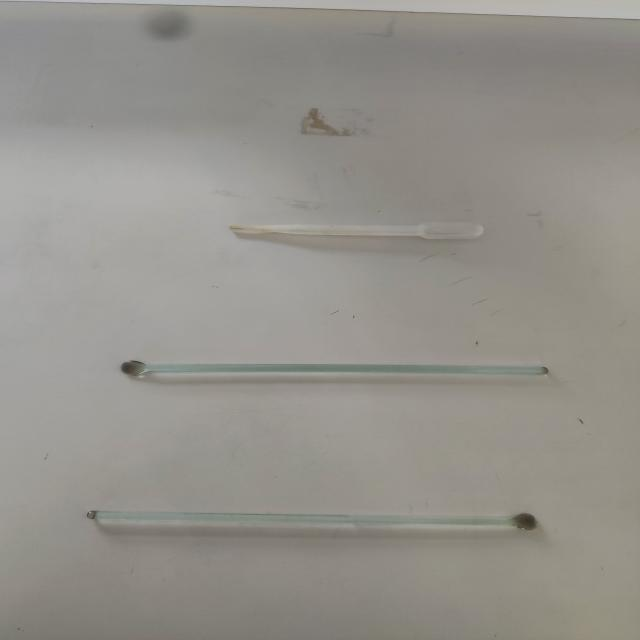Glass_Rod: (69, 474, 563, 573), (71, 332, 572, 413)
Pipette: (199, 207, 510, 262)
